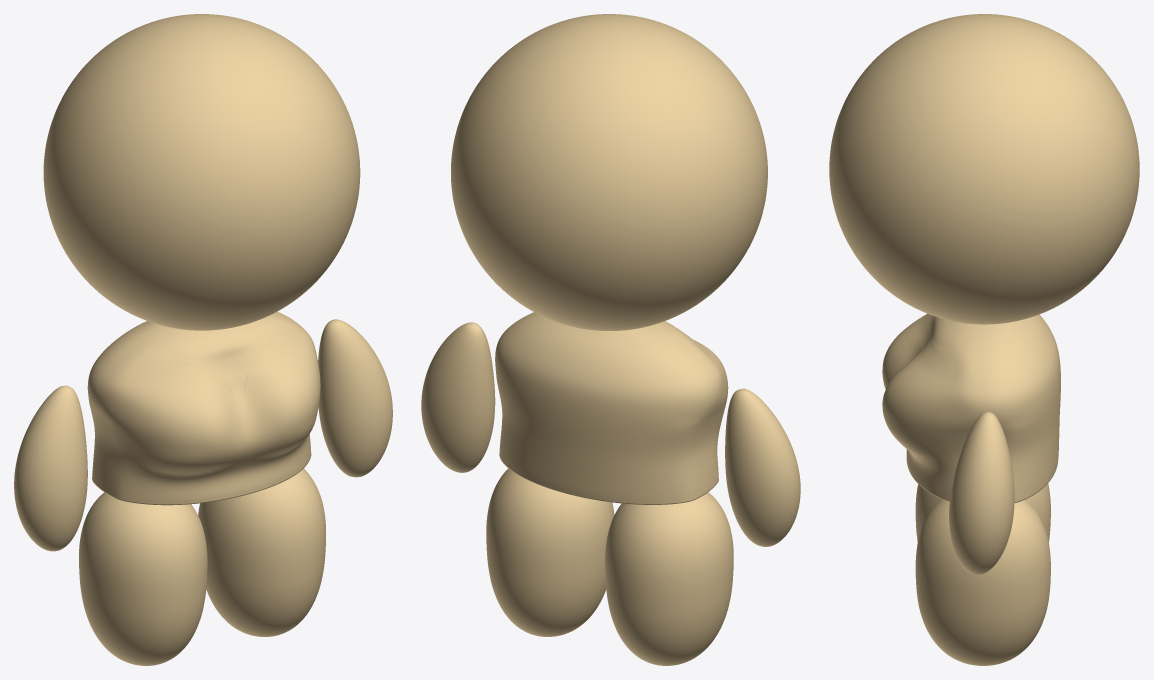
File: Feminine-Feminine-uncovered-base-b9d435ff.glb
3 views of the same model, side by side, from view 1: azimuth 30°, elevation 25°; view 2: azimuth 150°, elevation 25°; view 3: azimuth 270°, elevation 25° (orthographic). The views are drawn at different scales.
Parts seen in each view (by area): view 1: Skin / soft oval head, Skin / rounded torso, Skin / leg blob -1, Skin / leg blob 1, Skin / swept arm -1, Skin / swept arm 1; view 2: Skin / soft oval head, Skin / rounded torso, Skin / leg blob -1, Skin / leg blob 1, Skin / swept arm -1, Skin / swept arm 1; view 3: Skin / soft oval head, Skin / rounded torso, Skin / leg blob 1, Skin / swept arm 1, Skin / leg blob -1.
Boxes of the visible parts, <box> form: Skin / soft oval head: <box>43,14,360,330</box>; Skin / rounded torso: <box>87,311,320,505</box>; Skin / leg blob -1: <box>79,492,207,665</box>; Skin / leg blob 1: <box>198,468,325,636</box>; Skin / swept arm -1: <box>14,385,87,551</box>; Skin / swept arm 1: <box>318,319,392,477</box>; Skin / soft oval head: <box>451,14,767,330</box>; Skin / rounded torso: <box>495,312,728,504</box>; Skin / leg blob -1: <box>605,492,733,665</box>; Skin / leg blob 1: <box>486,468,614,636</box>; Skin / swept arm -1: <box>725,388,800,546</box>; Skin / swept arm 1: <box>421,322,495,472</box>; Skin / soft oval head: <box>829,14,1139,324</box>; Skin / rounded torso: <box>882,313,1060,502</box>; Skin / leg blob 1: <box>915,499,1050,665</box>; Skin / swept arm 1: <box>949,411,1014,574</box>; Skin / leg blob -1: <box>915,483,1050,542</box>.
Size of the model in its own units: 1.04 by 1.65 by 0.768.
